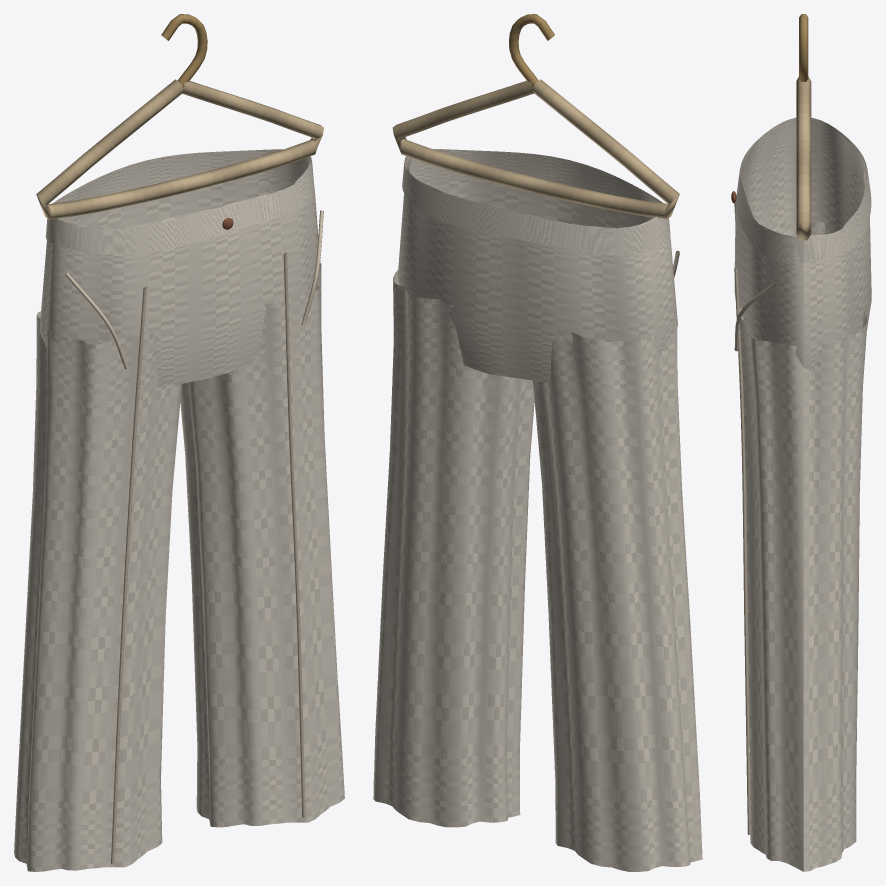
3 renders of one model, left to right at view 1: azimuth 30°, elevation 25°; view 2: azimuth 150°, elevation 25°; view 3: azimuth 270°, elevation 25°, orthographic. The views are drawn at different scales.
Parts seen in each view (by area): view 1: fabric_cream, ash_grain, fabric_linen, aged_brass; view 2: fabric_cream, ash_grain, aged_brass; view 3: fabric_cream, fabric_linen, ash_grain, aged_brass.
Boxes of the visible parts, box(x1,y1,x2,y2) form: fabric_cream: box(14, 149, 344, 871); ash_grain: box(36, 79, 323, 219); fabric_linen: box(65, 210, 323, 864); aged_brass: box(161, 14, 207, 87); fabric_cream: box(373, 149, 702, 871); ash_grain: box(392, 79, 679, 218); aged_brass: box(509, 14, 554, 87); fabric_cream: box(734, 117, 871, 871); fabric_linen: box(734, 201, 777, 834); ash_grain: box(796, 77, 811, 240); aged_brass: box(799, 14, 808, 81).
Size of the model in its own units: 0.5295 by 1.27 by 0.2074.
5 materials, 3 textured.
